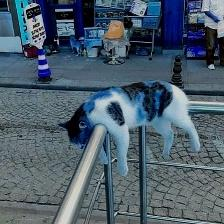kedo: (59, 79, 200, 176)
